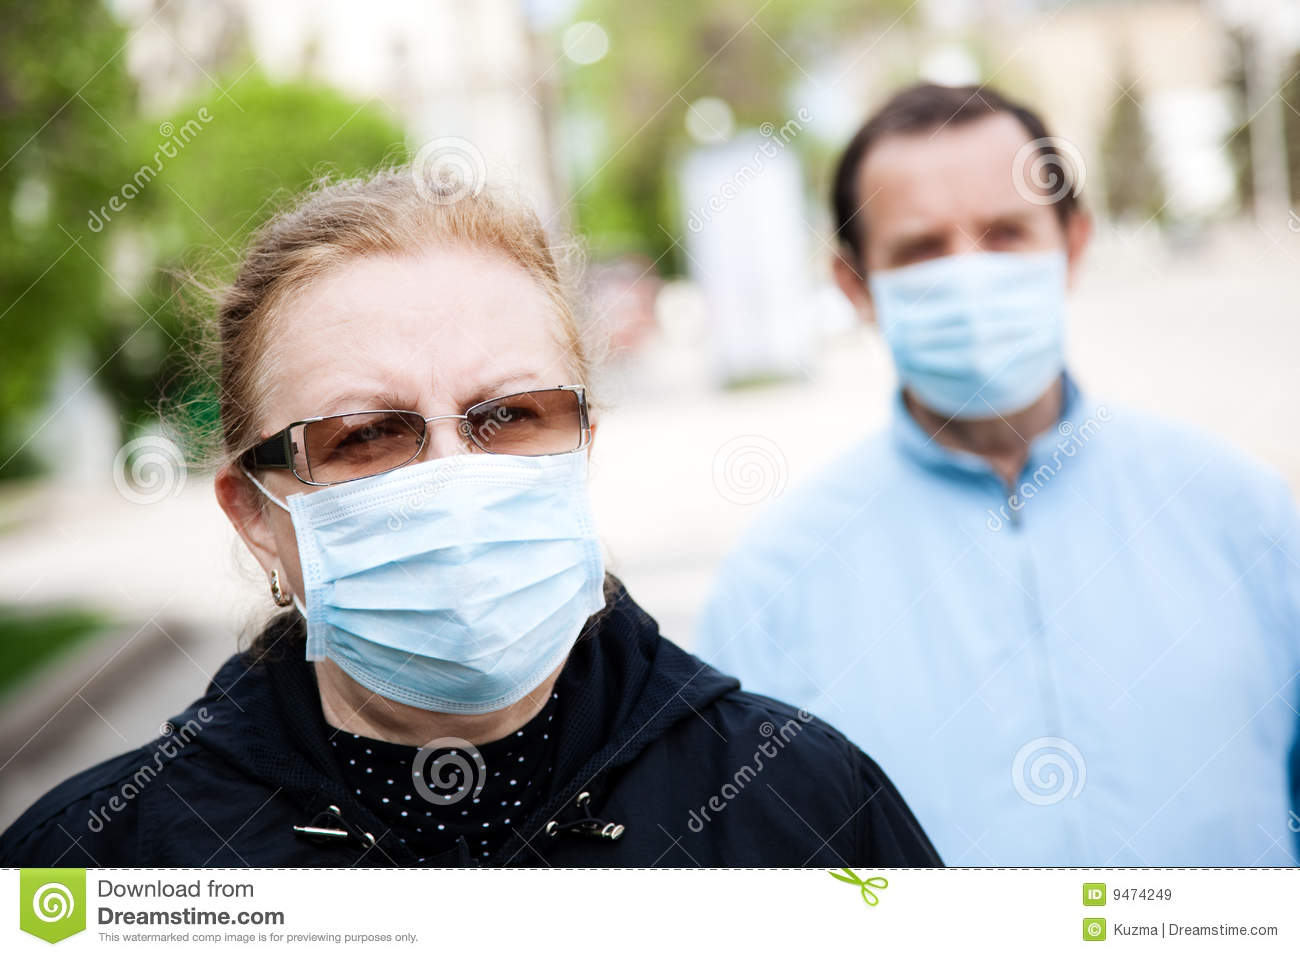mask: (301, 454, 607, 712)
